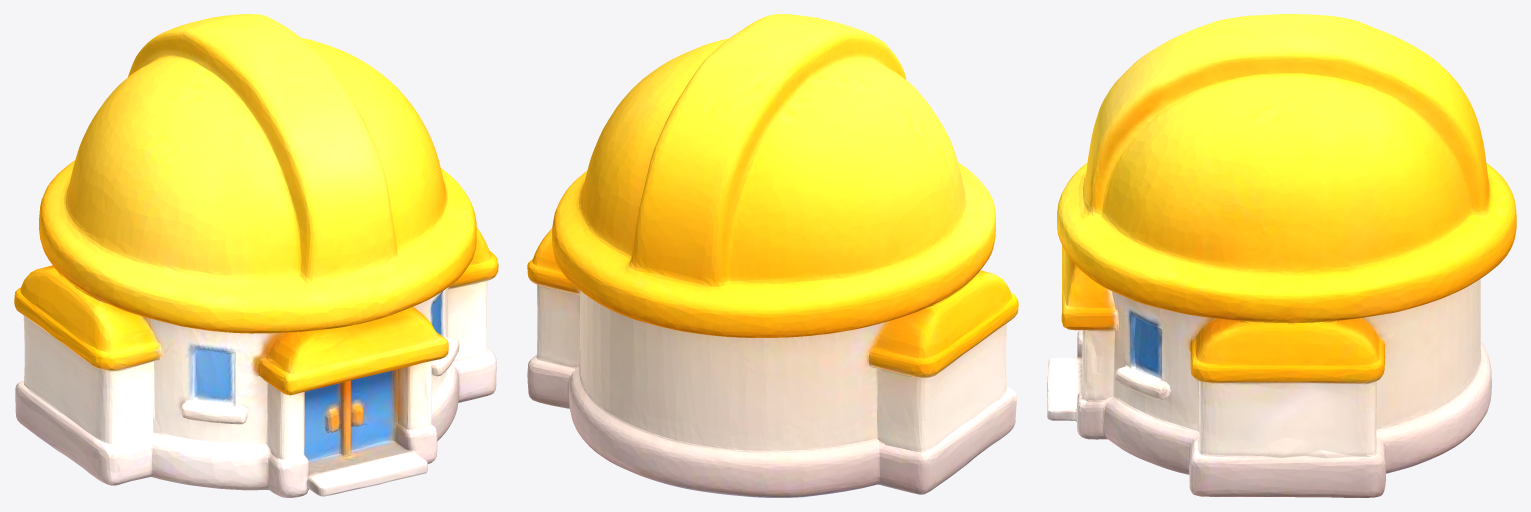
Rendered from safety_center.glb.
The picture shows the model from 3 angles, left to right: view 1: azimuth 30°, elevation 25°; view 2: azimuth 150°, elevation 25°; view 3: azimuth 270°, elevation 25°; orthographic projection.
Visible parts, largest first — view 1: tripo_mesh_c9a9dcbd-fe87-4063-90a9-d5d387a59b18; view 2: tripo_mesh_c9a9dcbd-fe87-4063-90a9-d5d387a59b18; view 3: tripo_mesh_c9a9dcbd-fe87-4063-90a9-d5d387a59b18.
Part boxes in pixels (left/top/right/bottom): tripo_mesh_c9a9dcbd-fe87-4063-90a9-d5d387a59b18: left=14, top=14, right=498, bottom=497; tripo_mesh_c9a9dcbd-fe87-4063-90a9-d5d387a59b18: left=527, top=14, right=1018, bottom=497; tripo_mesh_c9a9dcbd-fe87-4063-90a9-d5d387a59b18: left=1047, top=14, right=1516, bottom=497.
Size of the model in its own units: 1.12 by 1 by 1.12.
Materials: 1 (1 with a texture image).
